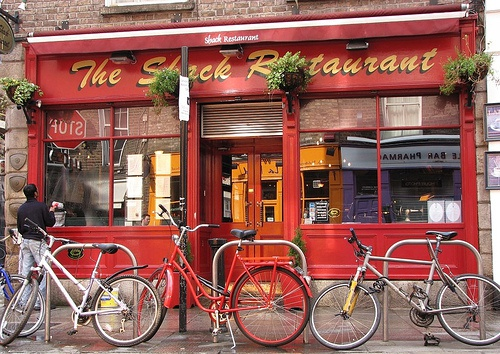non-vehicle: (145, 204, 313, 348), (309, 229, 500, 349), (3, 222, 158, 347), (0, 262, 37, 321)
